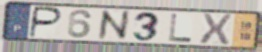3: (131, 10, 166, 43)
6: (66, 9, 94, 39)
L: (168, 13, 194, 43)
N: (97, 9, 131, 42)
P: (27, 5, 64, 40)
X: (198, 12, 233, 46)
